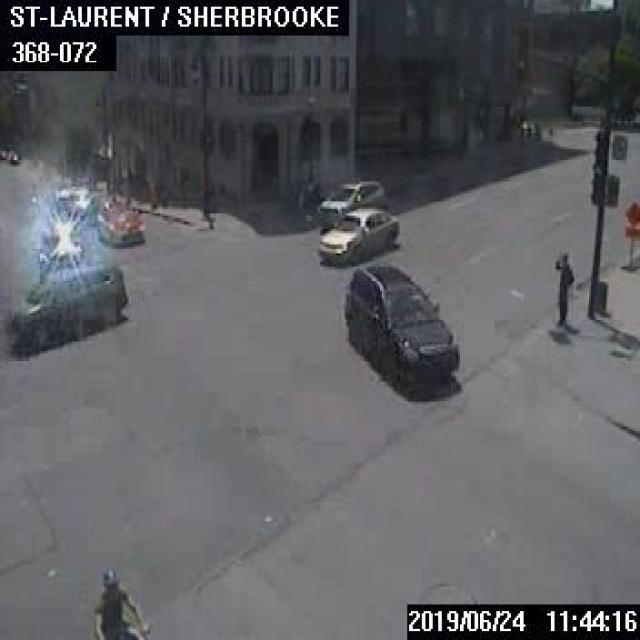construction: (619, 202, 638, 268)
cyclist: (95, 564, 153, 638)
pedestrian: (553, 249, 573, 322)
vehicle: (344, 263, 458, 377), (11, 262, 125, 344), (318, 205, 397, 261), (36, 217, 83, 271), (318, 177, 382, 214), (96, 196, 145, 244)
